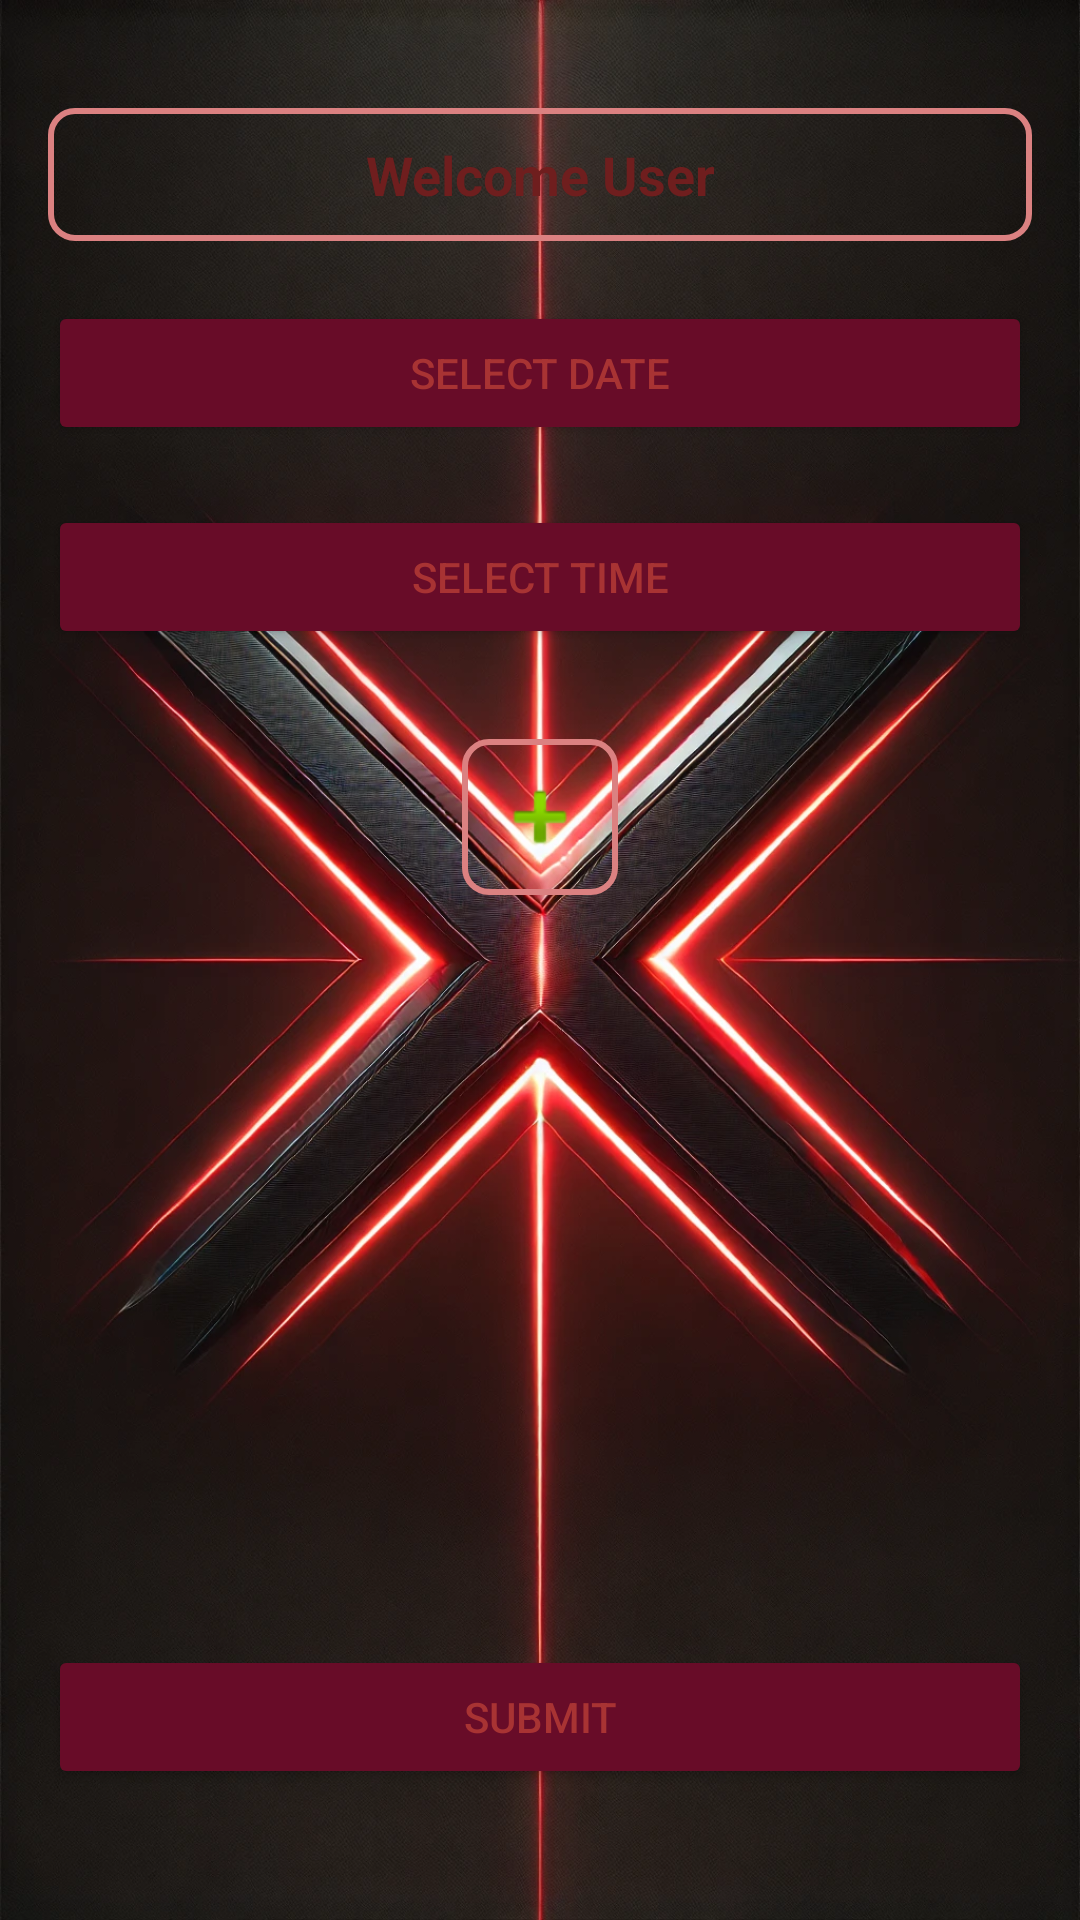

Where to tap for icons on this 1080x1920 app screen, as [x,y]:
Add Table: [540,817]
